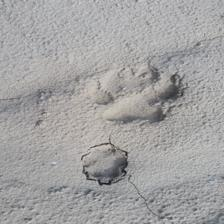wolf: (89, 53, 190, 126)
